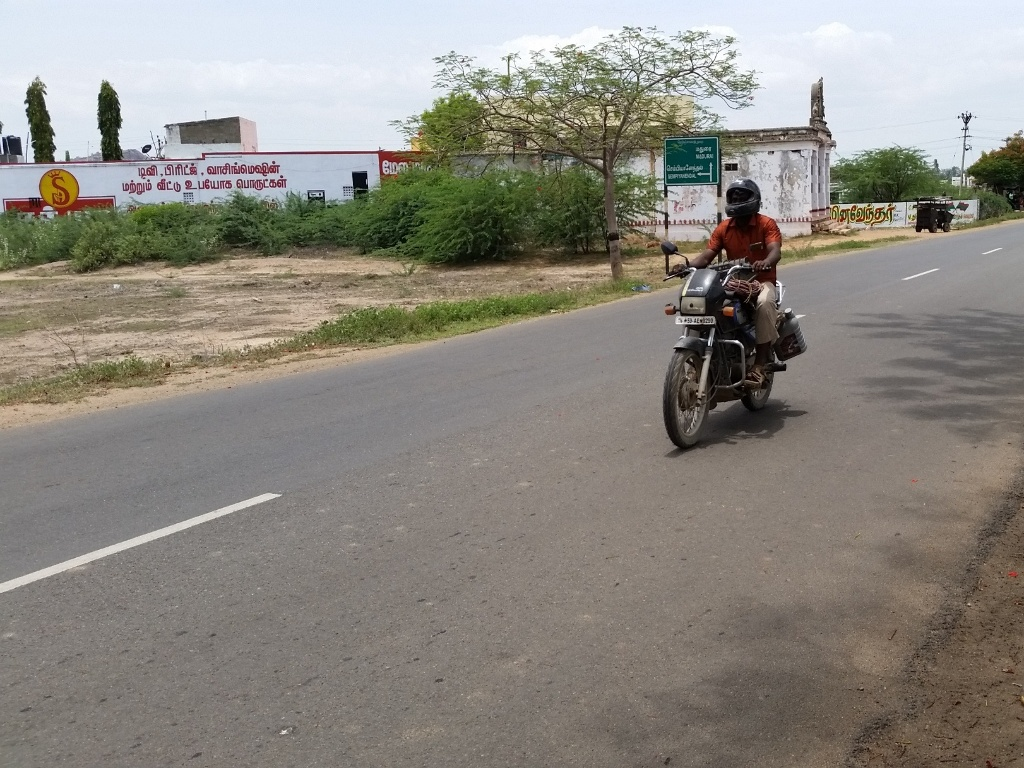biker: (634, 147, 827, 461)
helmet: (718, 165, 771, 231)
